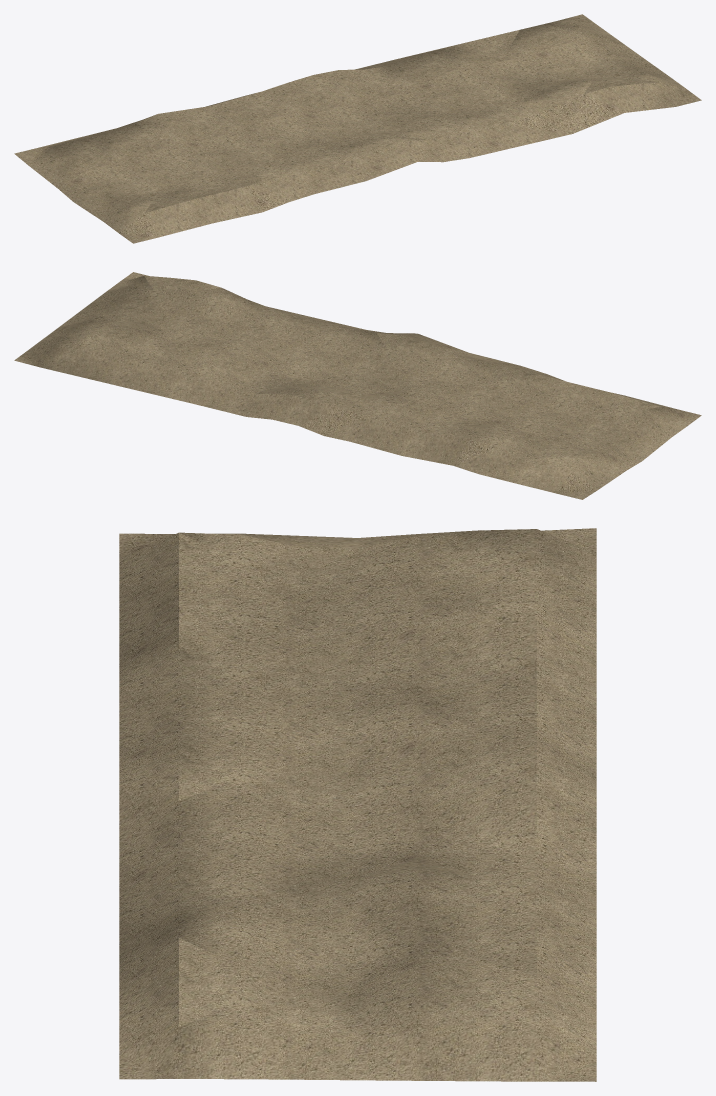
The model's file is tw2_5_dun_addon_01_21-transformed.glb.
3 views of the same model, one above another, from view 1: azimuth 30°, elevation 25°; view 2: azimuth 150°, elevation 25°; view 3: azimuth 270°, elevation 25° (orthographic). The views are drawn at different scales.
Parts seen in each view (by area): view 1: 5_DUN_ADDONS_01_21; view 2: 5_DUN_ADDONS_01_21; view 3: 5_DUN_ADDONS_01_21.
Part boxes in pixels (x1,y1,x2,y2): 5_DUN_ADDONS_01_21: (14, 14, 701, 243); 5_DUN_ADDONS_01_21: (14, 272, 701, 499); 5_DUN_ADDONS_01_21: (119, 528, 596, 1081).
Bounding box in the file's own units: 22 × 1.05 × 8.
1 material, 1 textured.
